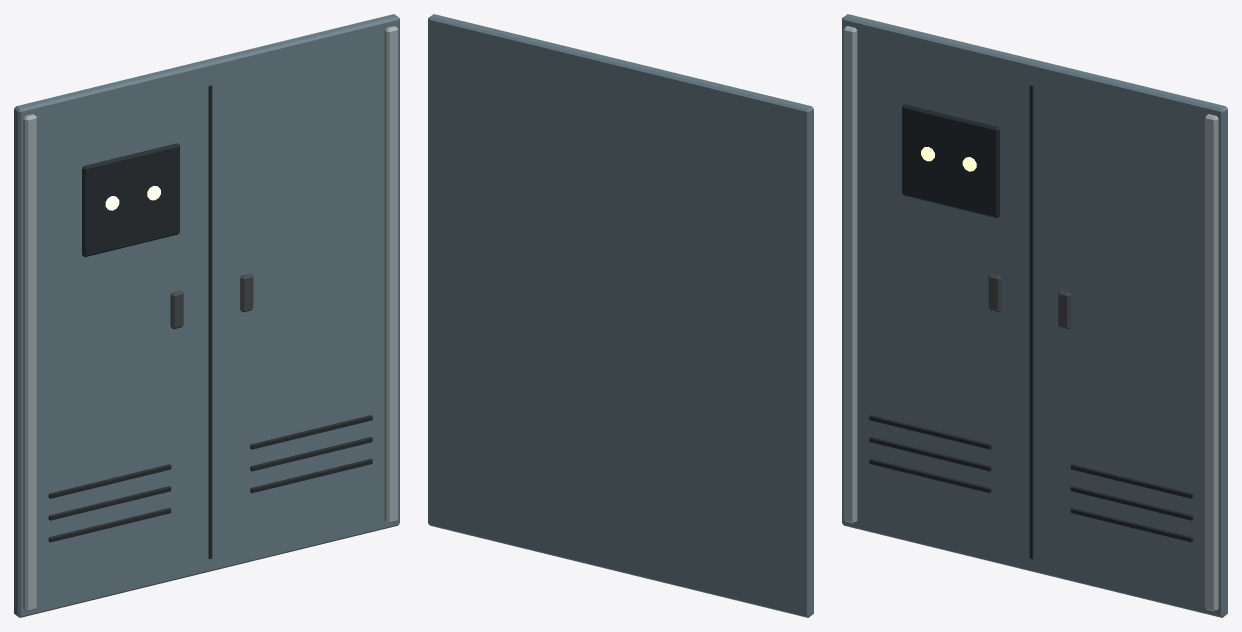
The model's file is roof-cabinet.glb.
The picture shows the model from 3 angles, left to right: view 1: azimuth 30°, elevation 25°; view 2: azimuth 150°, elevation 25°; view 3: azimuth 330°, elevation 25°; orthographic projection.
Parts seen in each view (by area): view 1: roof-cabinet-Slate enamel, roof-cabinet-Recess and gasket, roof-cabinet-Brushed zinc, roof-cabinet-Graphite steel; view 2: roof-cabinet-Slate enamel; view 3: roof-cabinet-Slate enamel, roof-cabinet-Recess and gasket, roof-cabinet-Brushed zinc, roof-cabinet-Graphite steel.
Boxes of the visible parts, x1,y1,x2,y2 form: roof-cabinet-Slate enamel: (14,14,399,617); roof-cabinet-Recess and gasket: (48,85,372,559); roof-cabinet-Brushed zinc: (23,26,398,611); roof-cabinet-Graphite steel: (170,273,253,329); roof-cabinet-Slate enamel: (428,14,813,617); roof-cabinet-Slate enamel: (842,14,1227,617); roof-cabinet-Recess and gasket: (869,85,1193,559); roof-cabinet-Brushed zinc: (843,26,1218,611); roof-cabinet-Graphite steel: (988,273,1071,329).
Size of the model in its own units: 1.1 by 1.4 by 0.049.
